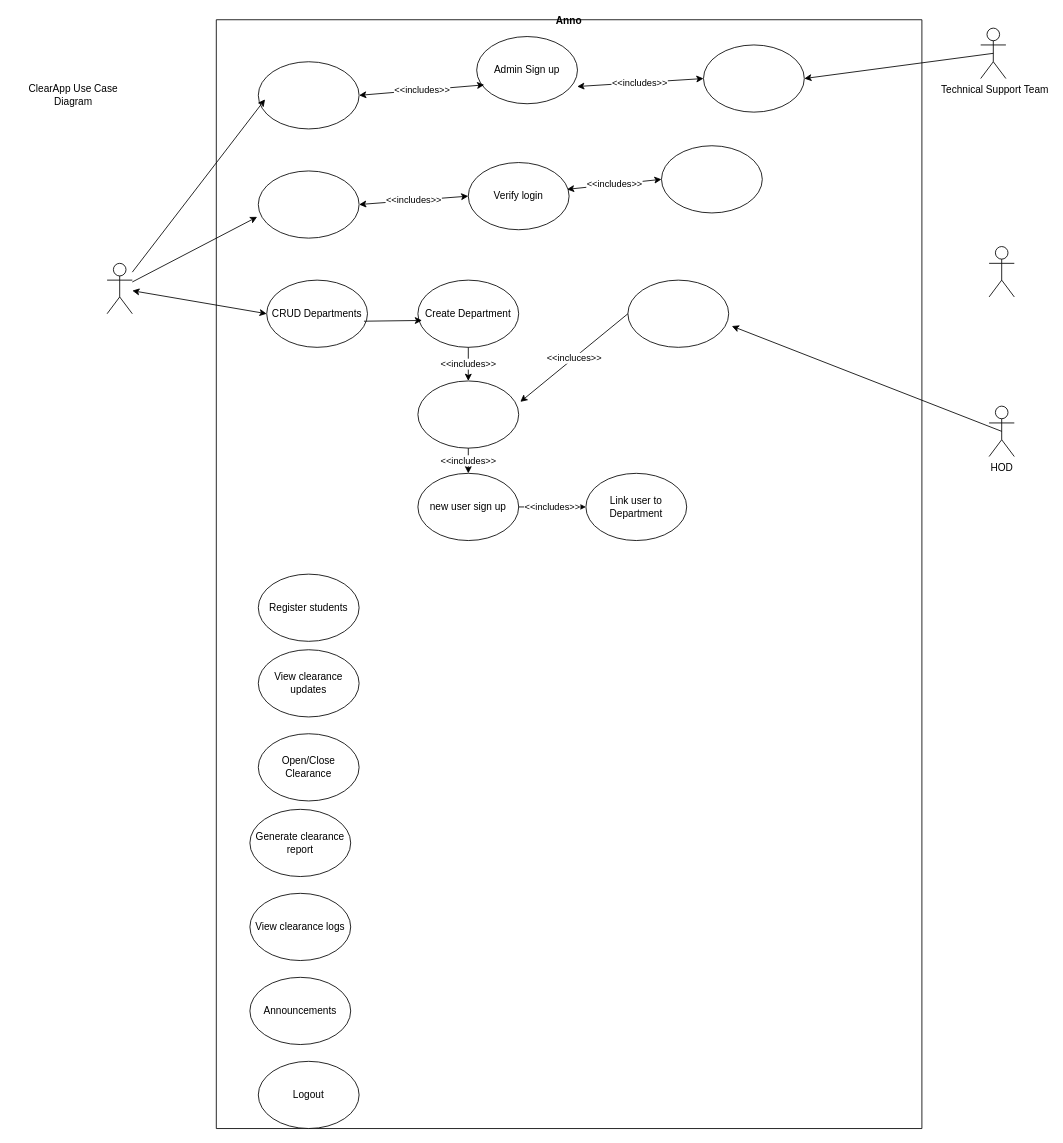
Image size: 1063x1143. Some labels were removed from this diagram. The centre of each missing label's shape, as x and y in pixels:
"Add sub users" belongs at (x=678, y=313).
"Admin" belongs at (x=119, y=288).
"Login" belongs at (x=308, y=204).
"onboarding a school" belongs at (x=308, y=95).
"OTP to Email" belongs at (x=711, y=179).
"Send email to new user" belongs at (x=468, y=414).
"Stduent" belongs at (x=1001, y=271).
"Verify School" belongs at (x=753, y=78).
